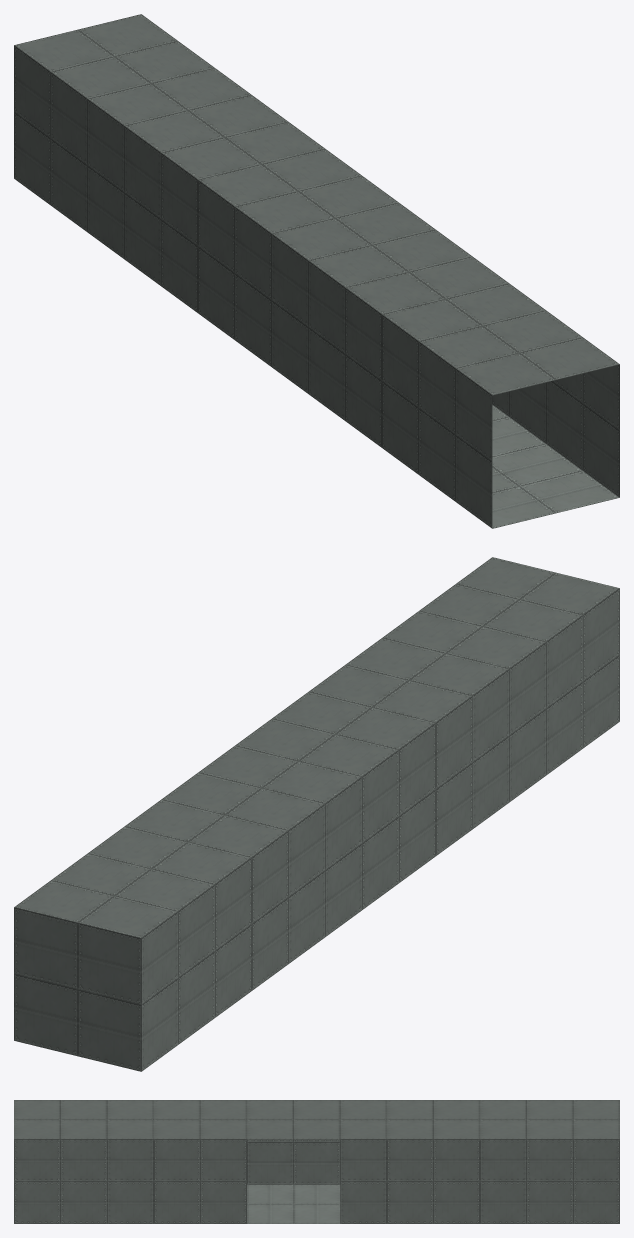
File: duct.obj
3 views of the same model, one above another, from view 1: azimuth 30°, elevation 25°; view 2: azimuth 150°, elevation 25°; view 3: azimuth 270°, elevation 25° (orthographic). The views are drawn at different scales.
Size of the model in its own units: 80 by 80 by 520.
2 materials, 2 textured.
